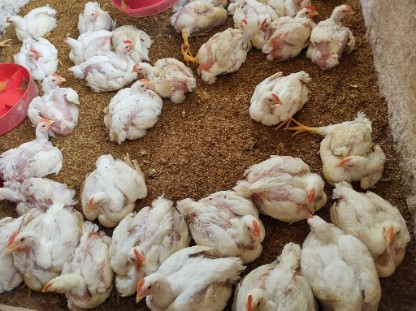Pollos: (134, 236, 244, 311), (334, 185, 412, 273), (240, 149, 331, 223), (314, 215, 381, 311), (113, 204, 191, 286), (8, 204, 82, 290), (44, 235, 124, 311), (230, 245, 321, 311), (184, 186, 267, 258), (324, 101, 388, 180), (81, 151, 148, 225), (0, 112, 62, 183), (97, 80, 168, 140), (248, 71, 319, 127), (21, 74, 80, 139), (193, 19, 250, 82), (311, 5, 363, 73), (274, 0, 326, 59), (0, 196, 28, 297), (132, 56, 193, 97), (166, 0, 227, 41), (82, 48, 137, 90), (58, 28, 112, 61), (15, 34, 55, 77), (4, 10, 56, 36), (73, 0, 118, 30), (257, 14, 278, 35), (292, 0, 304, 13)
